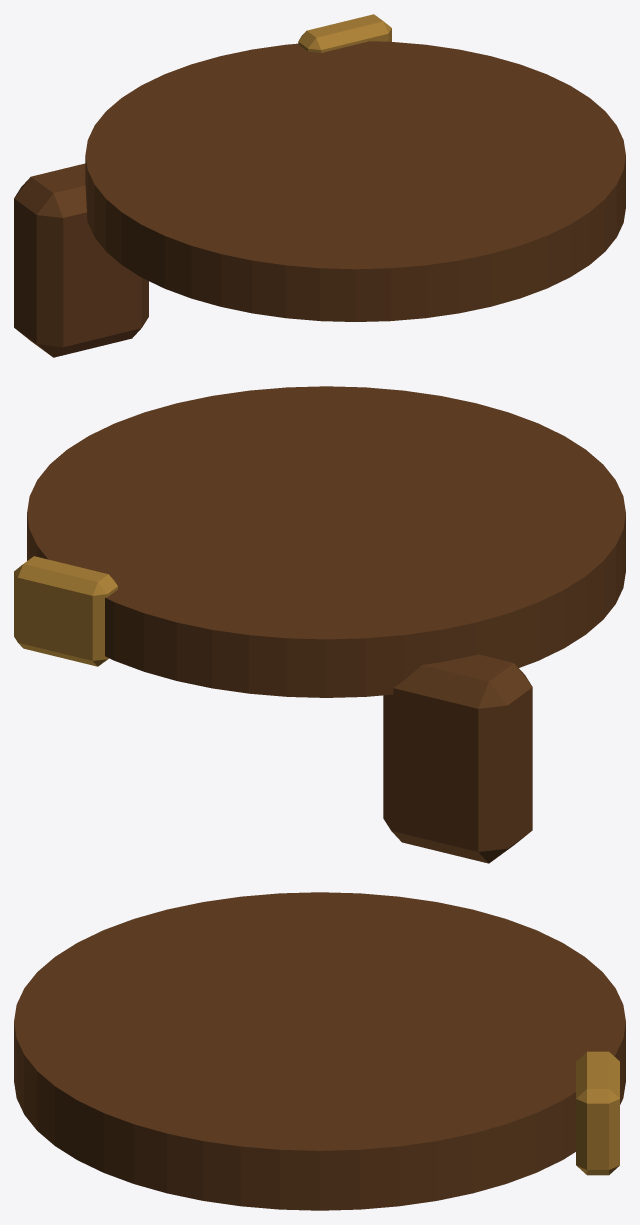
The model's file is Belt.glb.
3 views of the same model, one above another, from view 1: azimuth 30°, elevation 25°; view 2: azimuth 150°, elevation 25°; view 3: azimuth 270°, elevation 25° (orthographic). The views are drawn at different scales.
Parts seen in each view (by area): view 1: geometry_0; view 2: geometry_0; view 3: geometry_0.
Boxes of the visible parts, bbox=[...] form: geometry_0: bbox=[14, 14, 625, 357]; geometry_0: bbox=[14, 386, 625, 863]; geometry_0: bbox=[14, 892, 625, 1210].
Bounding box in the file's own units: 0.867 × 0.35 × 0.834.
